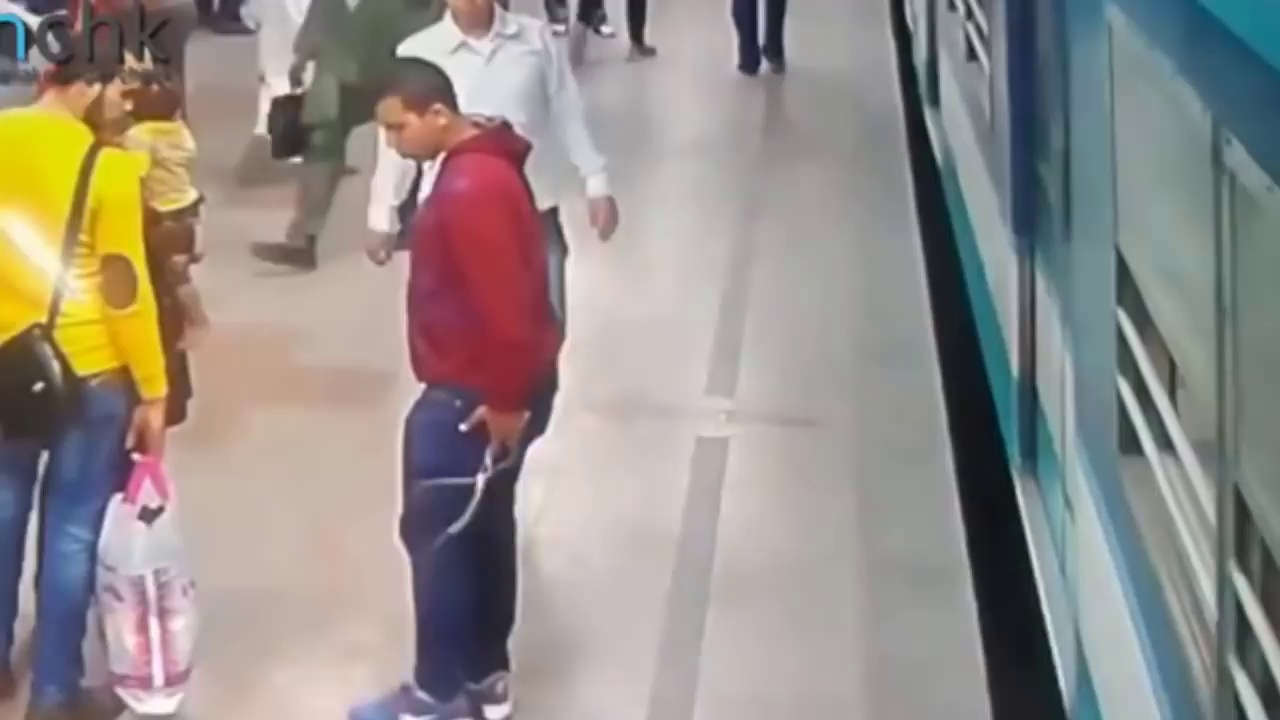face: (379, 92, 425, 161), (90, 81, 140, 134)
